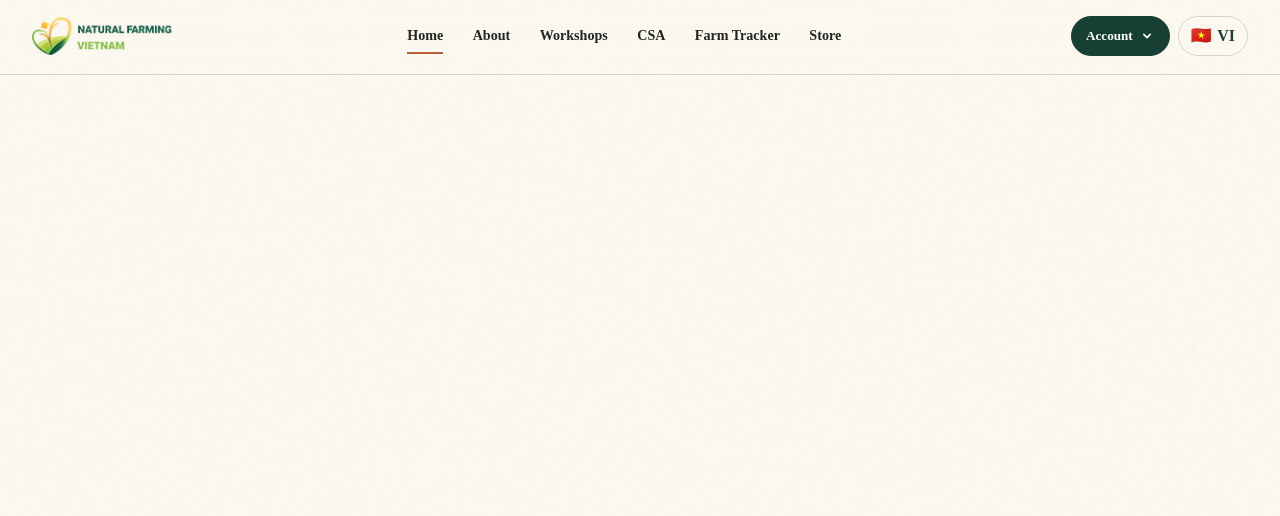
Scenario: site header session projection › shows the signed-in identity, ordered destinations and localized balance
Expected: the text "A member with a very long display name" is not shown
Expected: the button "Sign out" is not shown
Click the button "Account". click: click(1121, 36)
box: [1072,16,1170,56]
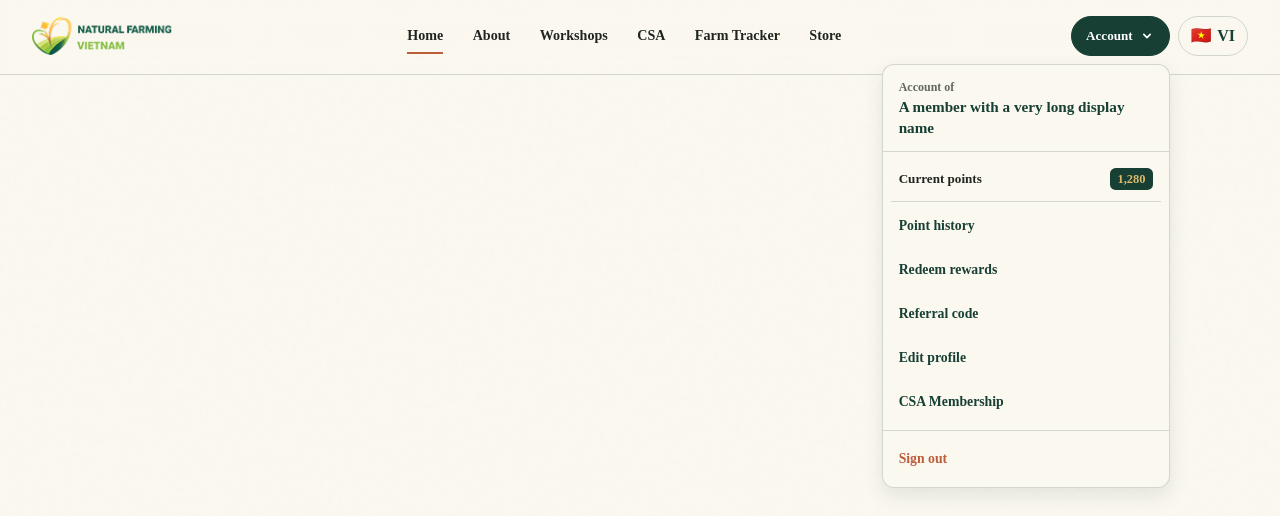
Now the element with class "header-account-user" is shown, box [883,65,1169,152]
Now the text "Account of" is shown, box [899,80,954,94]
Now the text "A member with a very long display name" is shown, box [899,97,1153,138]
